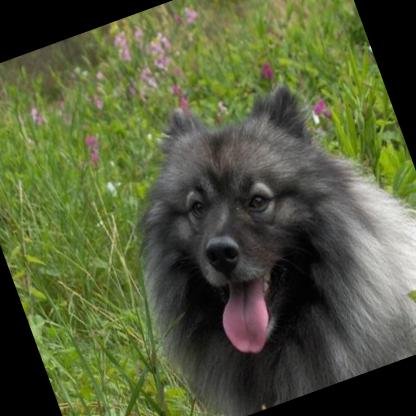keeshond: (83, 34, 416, 416)
